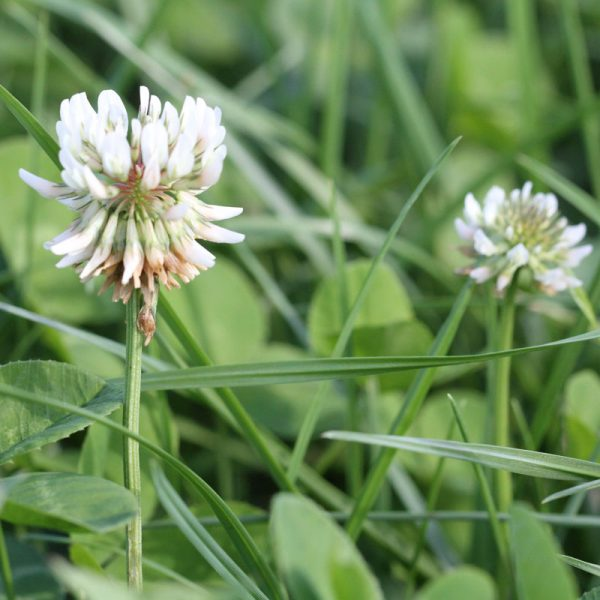clover blossom white: (19, 81, 249, 347), (449, 178, 594, 302)
